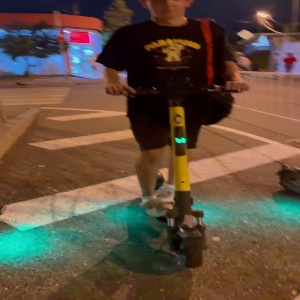human on a scooter: (92, 1, 252, 271)
